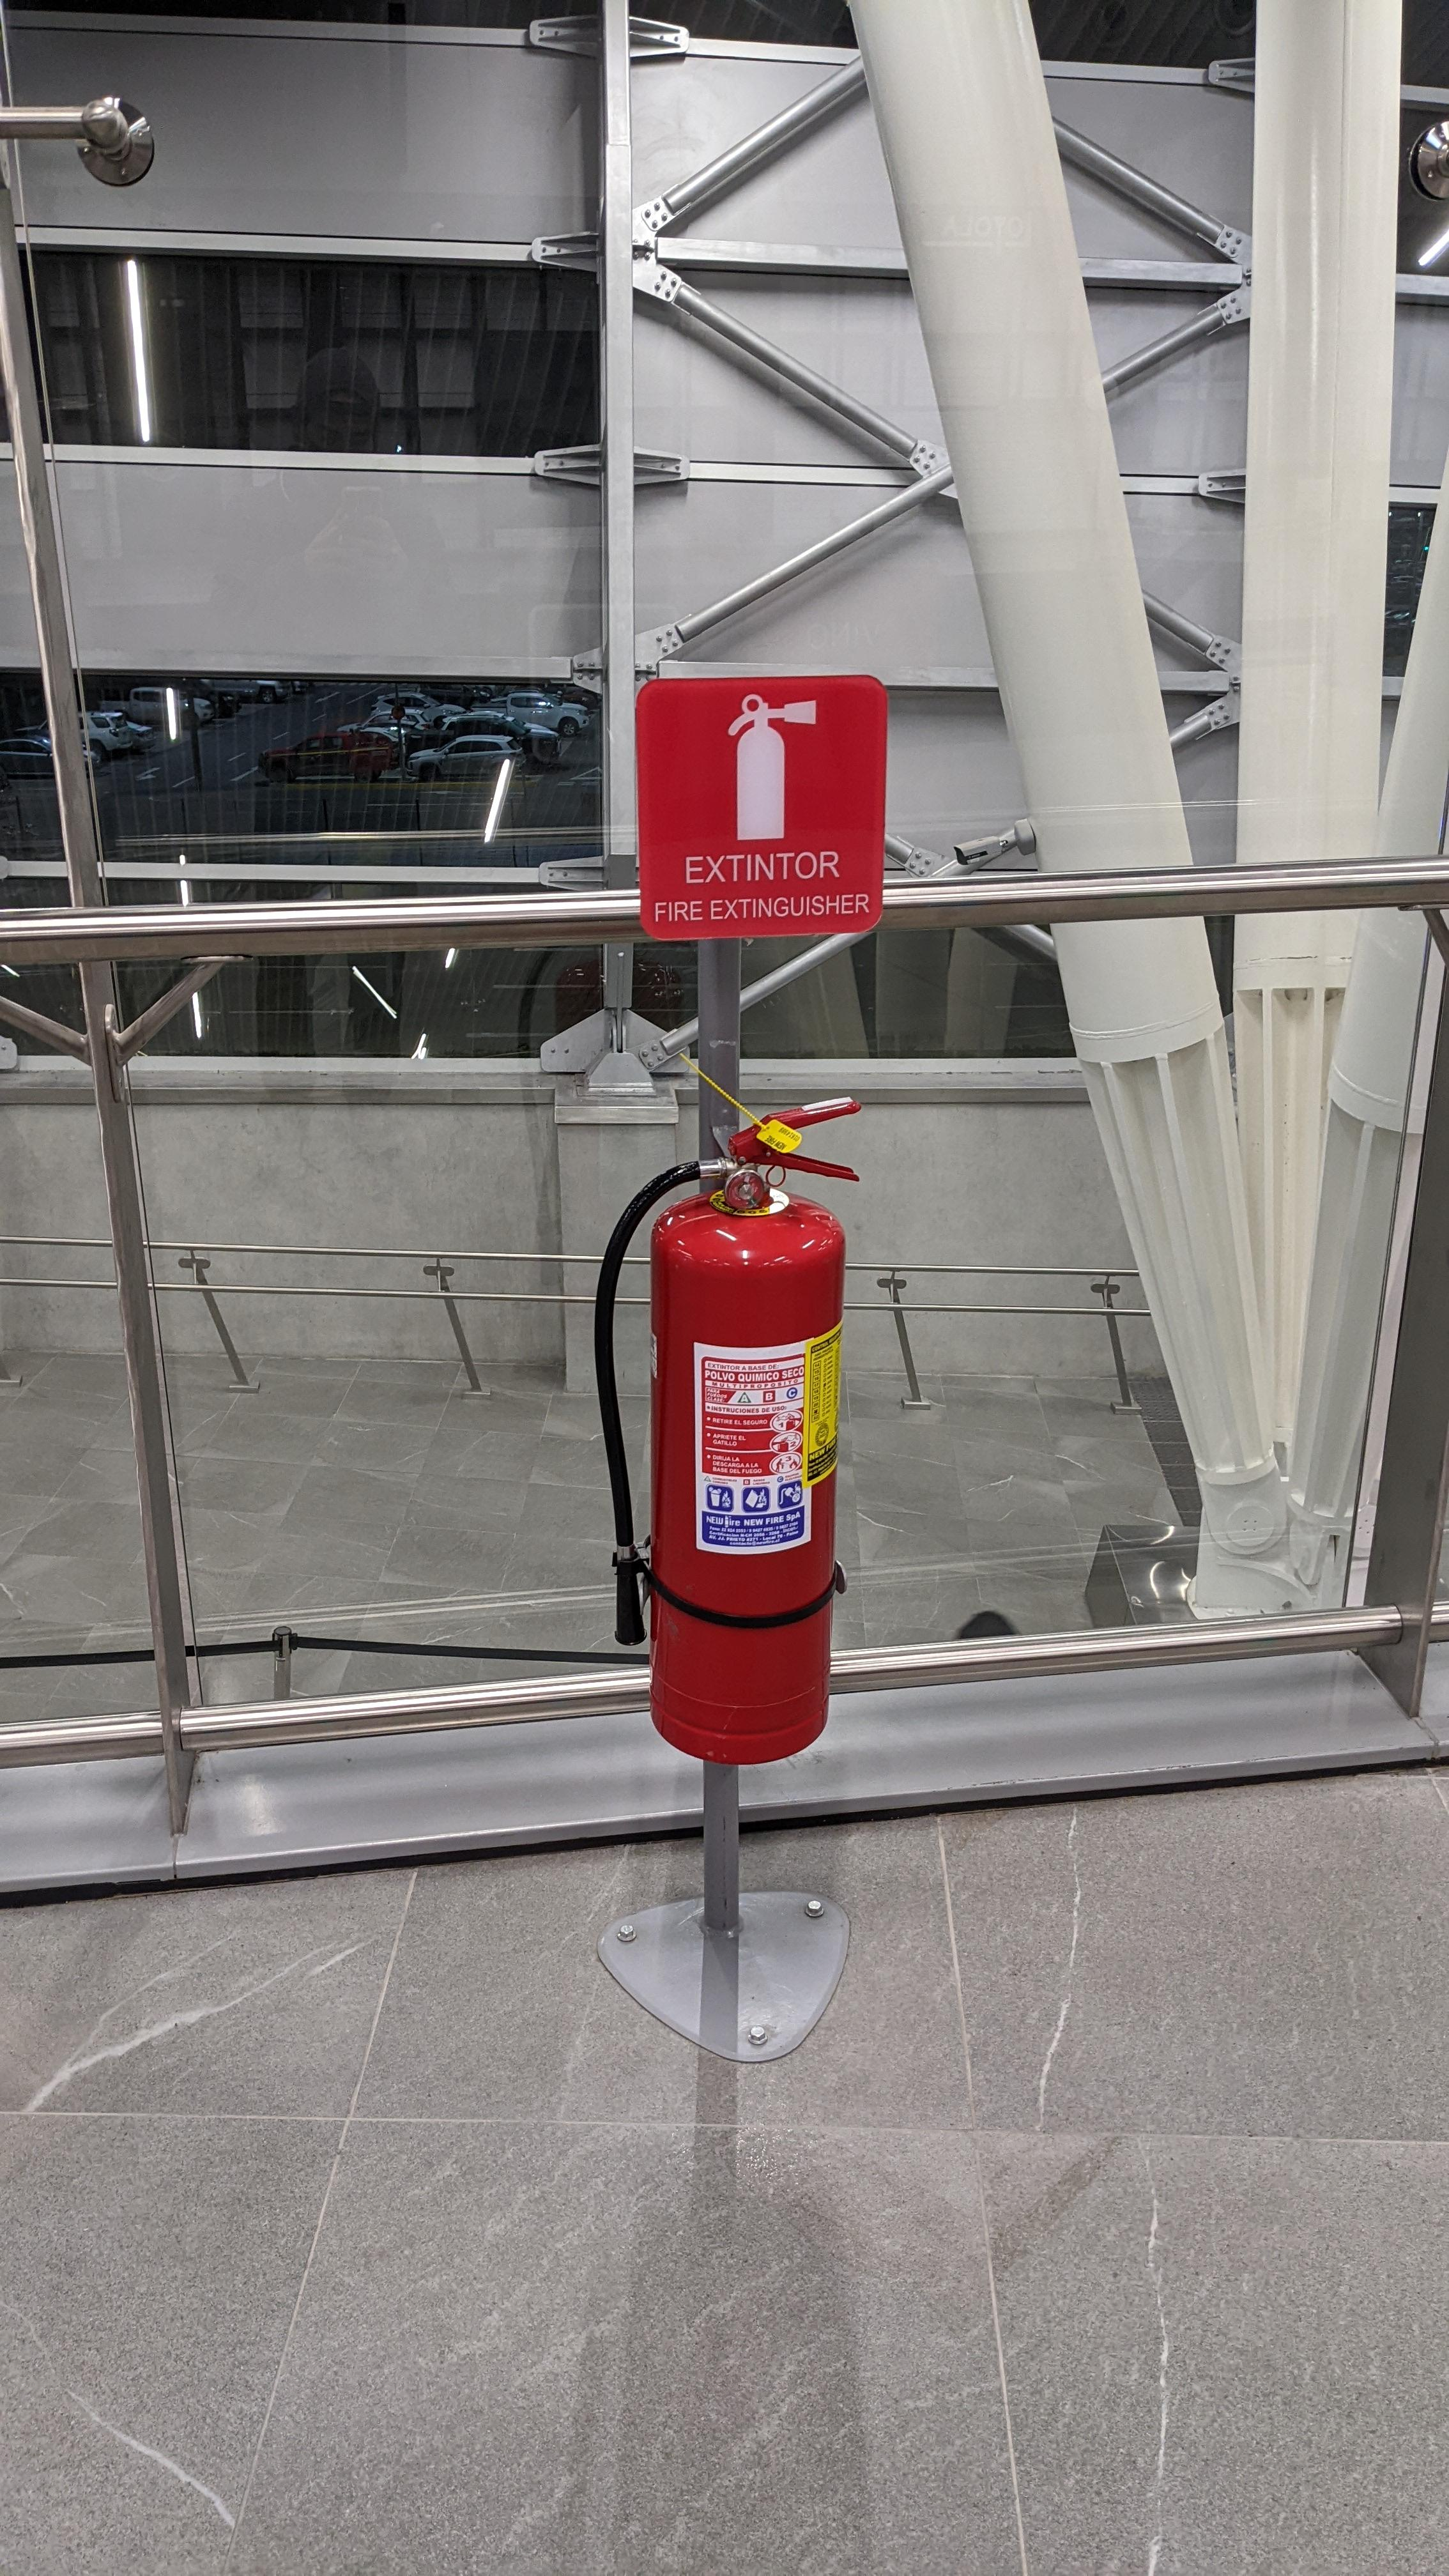extinguisher symbol: (725, 688, 823, 847)
fire-extinguisher: (589, 1081, 872, 1773)
